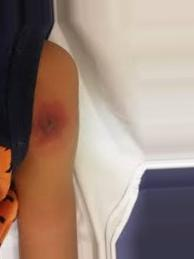Spider: (36, 107, 64, 143)
